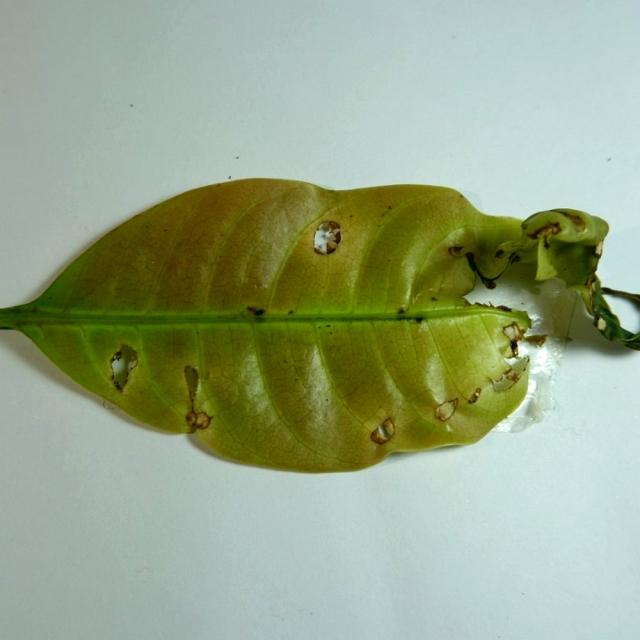Anthracnose: (310, 220, 346, 263), (109, 345, 138, 391), (311, 220, 342, 256), (492, 361, 525, 391), (501, 321, 524, 358), (370, 417, 396, 444), (528, 222, 560, 243), (185, 409, 212, 432), (466, 384, 488, 411), (557, 212, 586, 232), (434, 398, 458, 420), (524, 334, 548, 348), (468, 388, 482, 404), (246, 306, 265, 316), (110, 351, 122, 366), (448, 246, 464, 256), (594, 241, 604, 256), (331, 229, 341, 244), (507, 371, 520, 382), (484, 280, 497, 290), (511, 341, 519, 357), (496, 305, 512, 312), (114, 380, 123, 391), (495, 250, 505, 259), (397, 307, 405, 314), (287, 310, 294, 315)
Mango: (0, 179, 639, 477)
